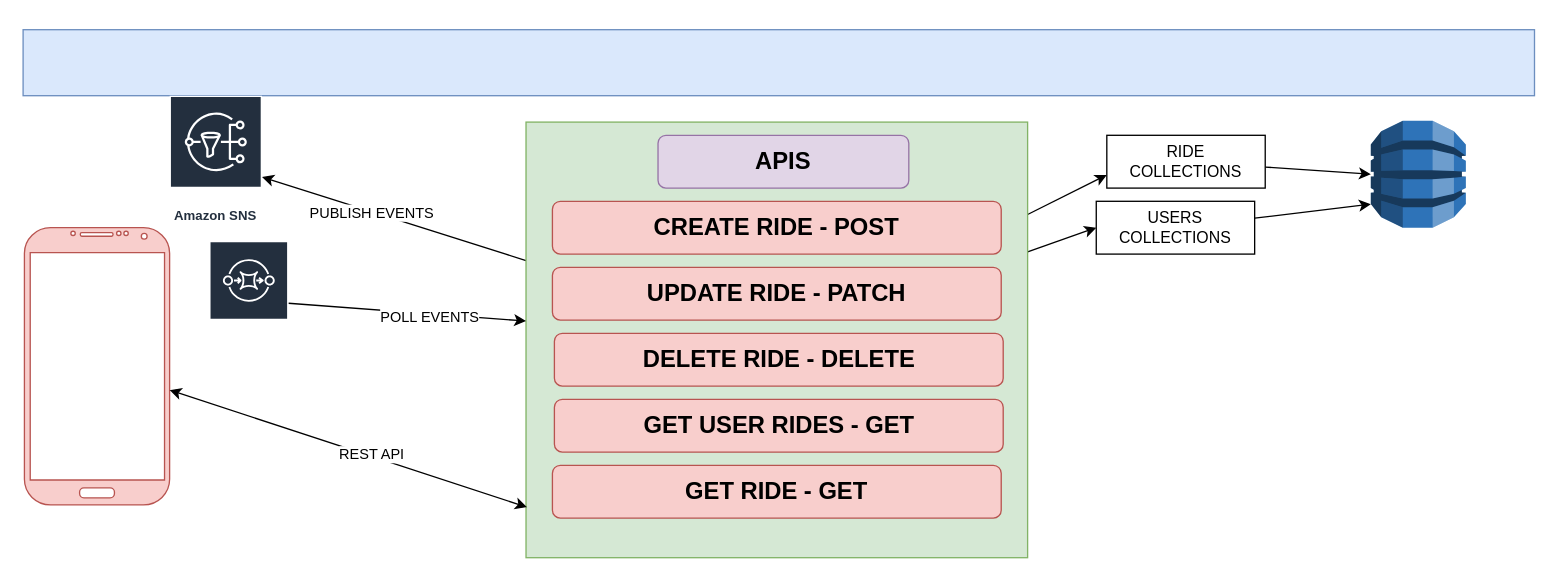
Image size: 1558x581. Some labels were removed from this diagram. Here are the shapes that lost their labels. From the top down, the centre of each, then its label:
point 778,62: RIDE SERVICE DESIGN
point 1418,173: MONGO DB
point 248,300: Amazon SQS
point 96,365: CLIENT APP
